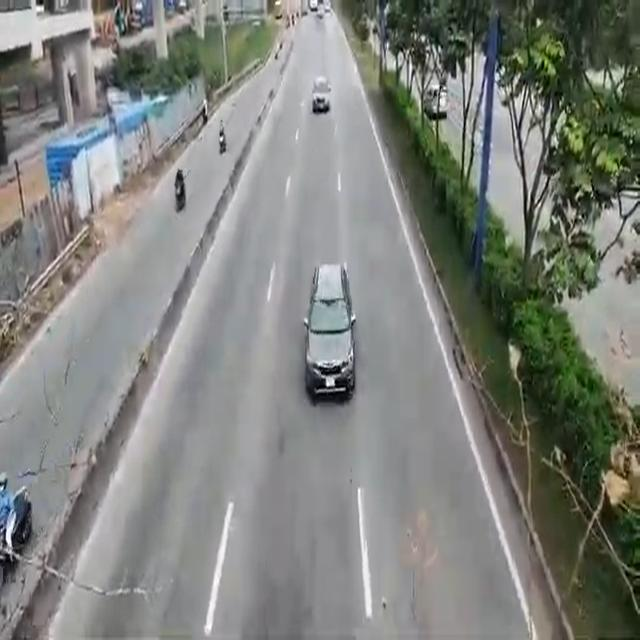car: (307, 260, 355, 404), (312, 70, 329, 119)
motor: (172, 159, 188, 219), (216, 113, 228, 152)
